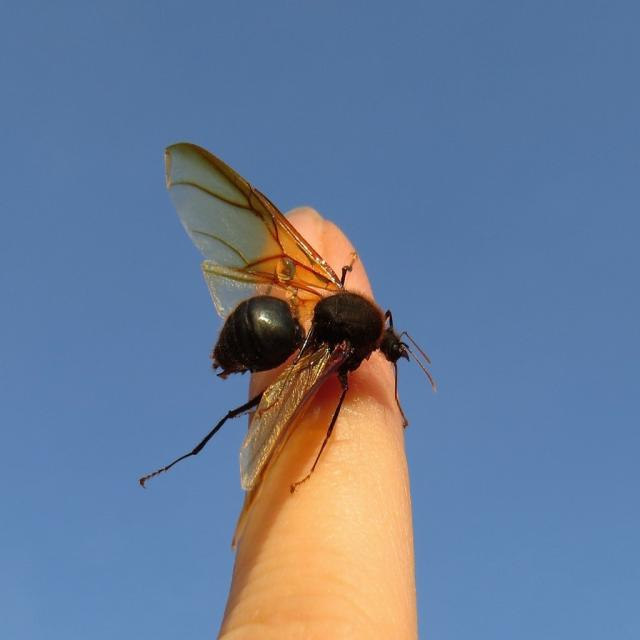Alive-Male-Alate: (140, 140, 437, 489)
